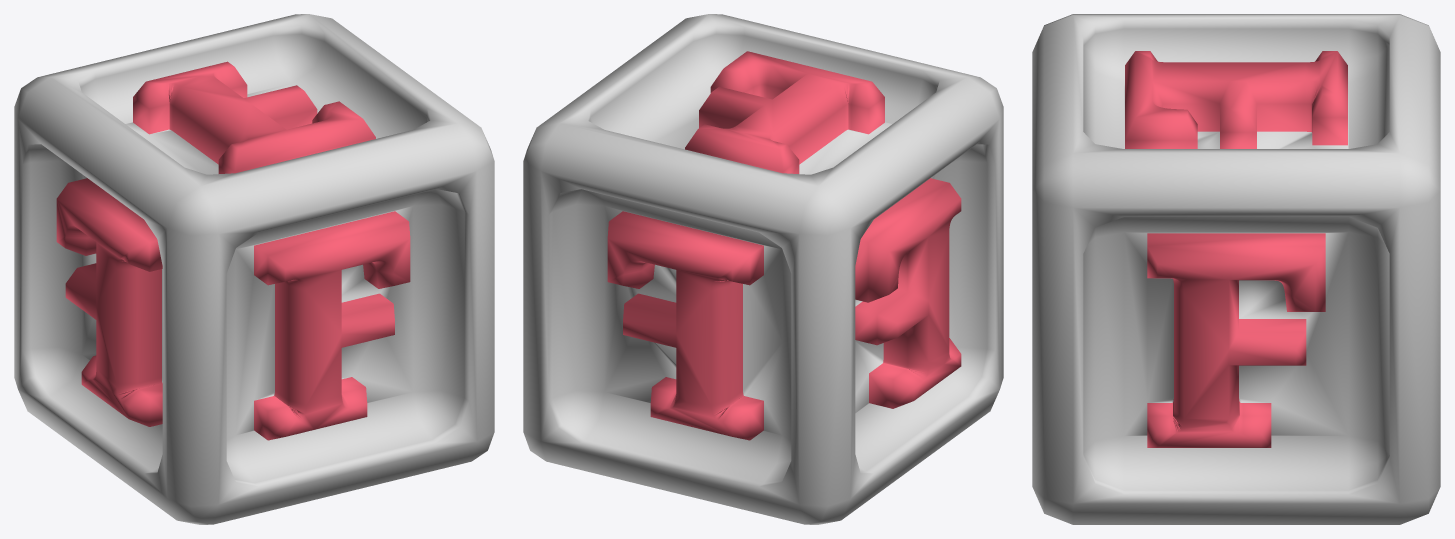
3 views of the same model, side by side, from view 1: azimuth 30°, elevation 25°; view 2: azimuth 150°, elevation 25°; view 3: azimuth 270°, elevation 25° (orthographic). The views are drawn at different scales.
Parts seen in each view (by area): view 1: obj_0; view 2: obj_0; view 3: obj_0.
Part boxes in pixels (x1,y1,x2,y2): obj_0: [14, 14, 494, 524]; obj_0: [523, 14, 1003, 524]; obj_0: [1032, 14, 1440, 524].
Size of the model in its own units: 100 by 100 by 100.
